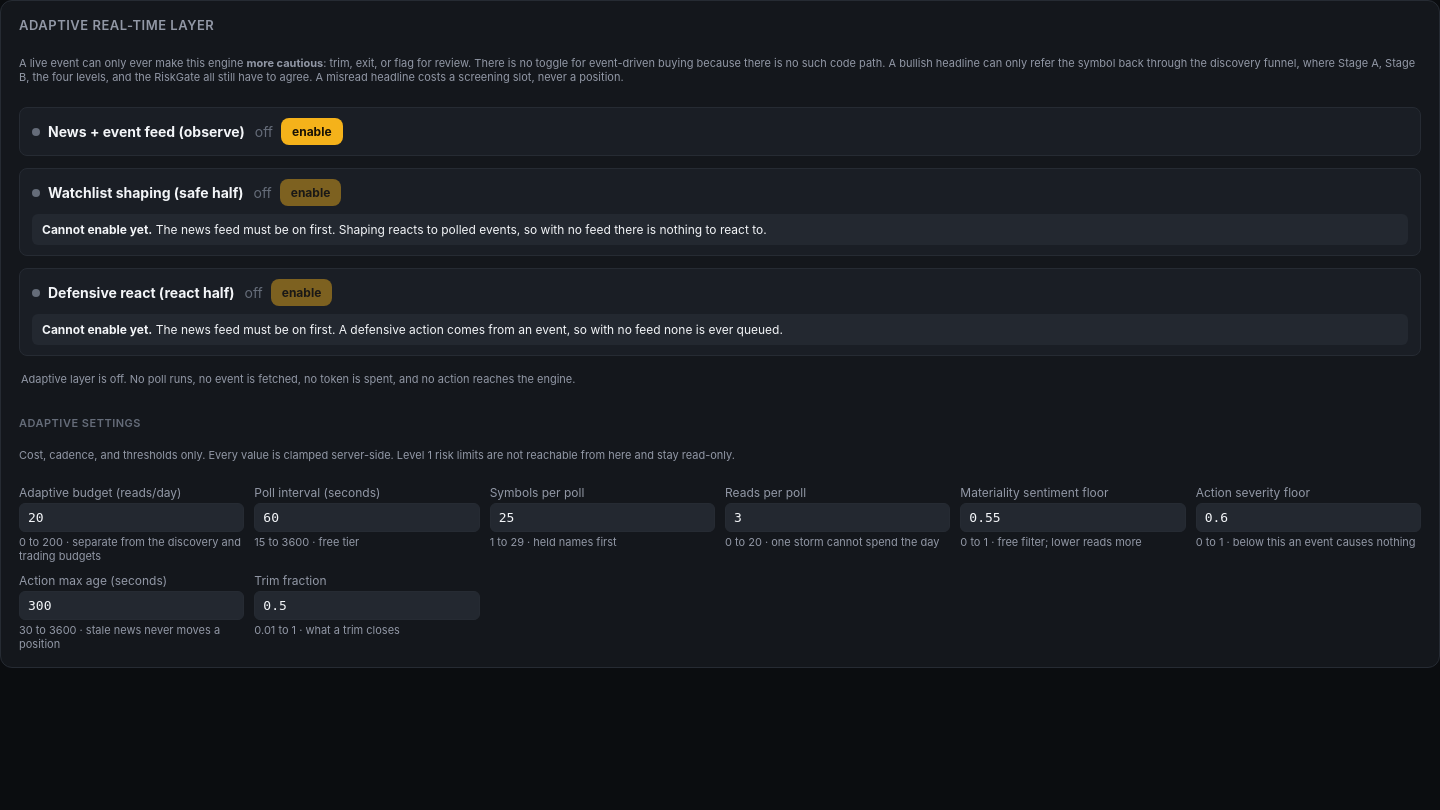
Test case: prerequisites and ordering › surfaces a server refusal
What coordinates should you click on to do the following:
click the button "enable" in the row of "News + event feed (observe)"
I would click on:
 (312, 132)
Its box is top-left (281, 118), bottom-right (343, 145).
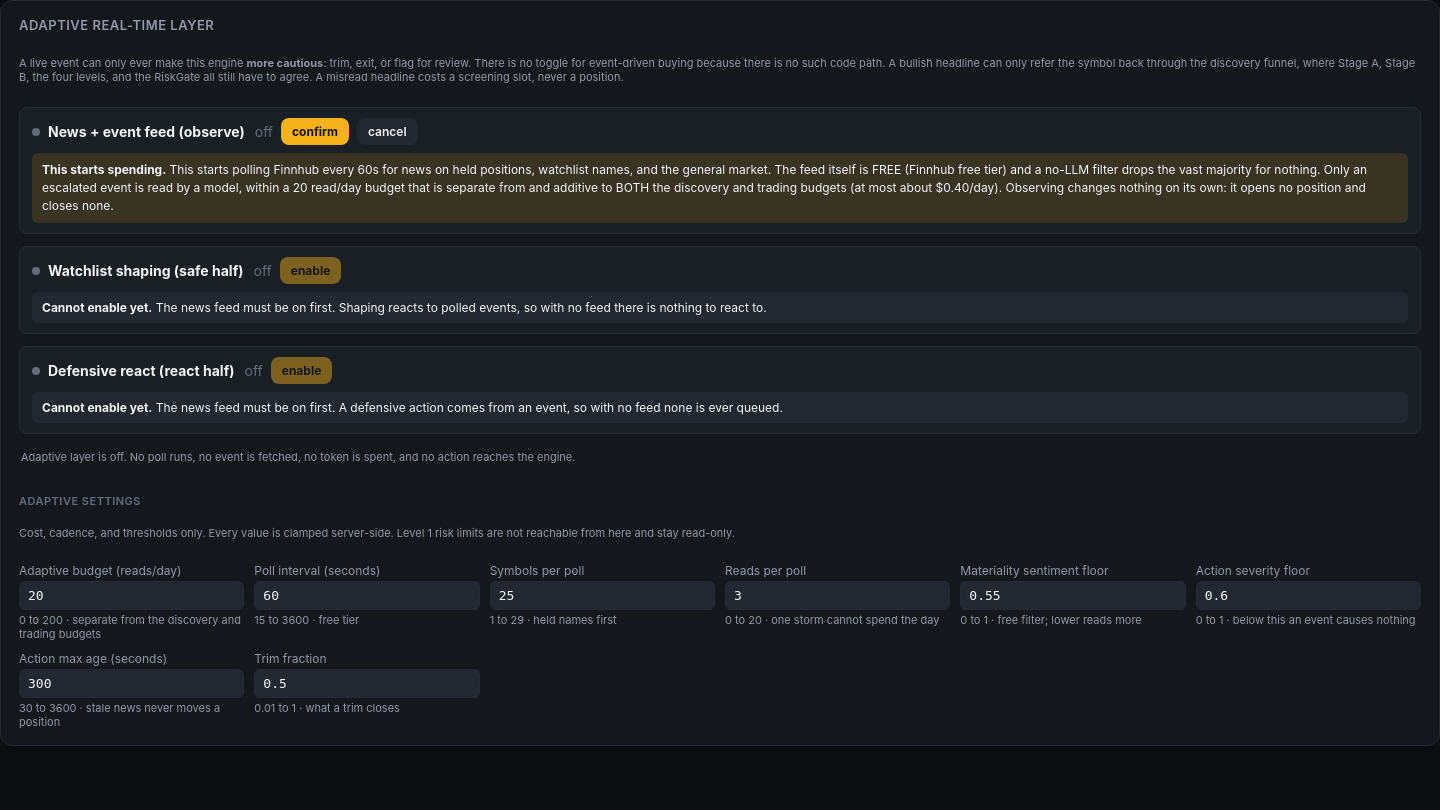
What coordinates should you click on to do the following:
click the button "confirm"
I would click on:
 (315, 132)
Its box is top-left (281, 118), bottom-right (349, 145).
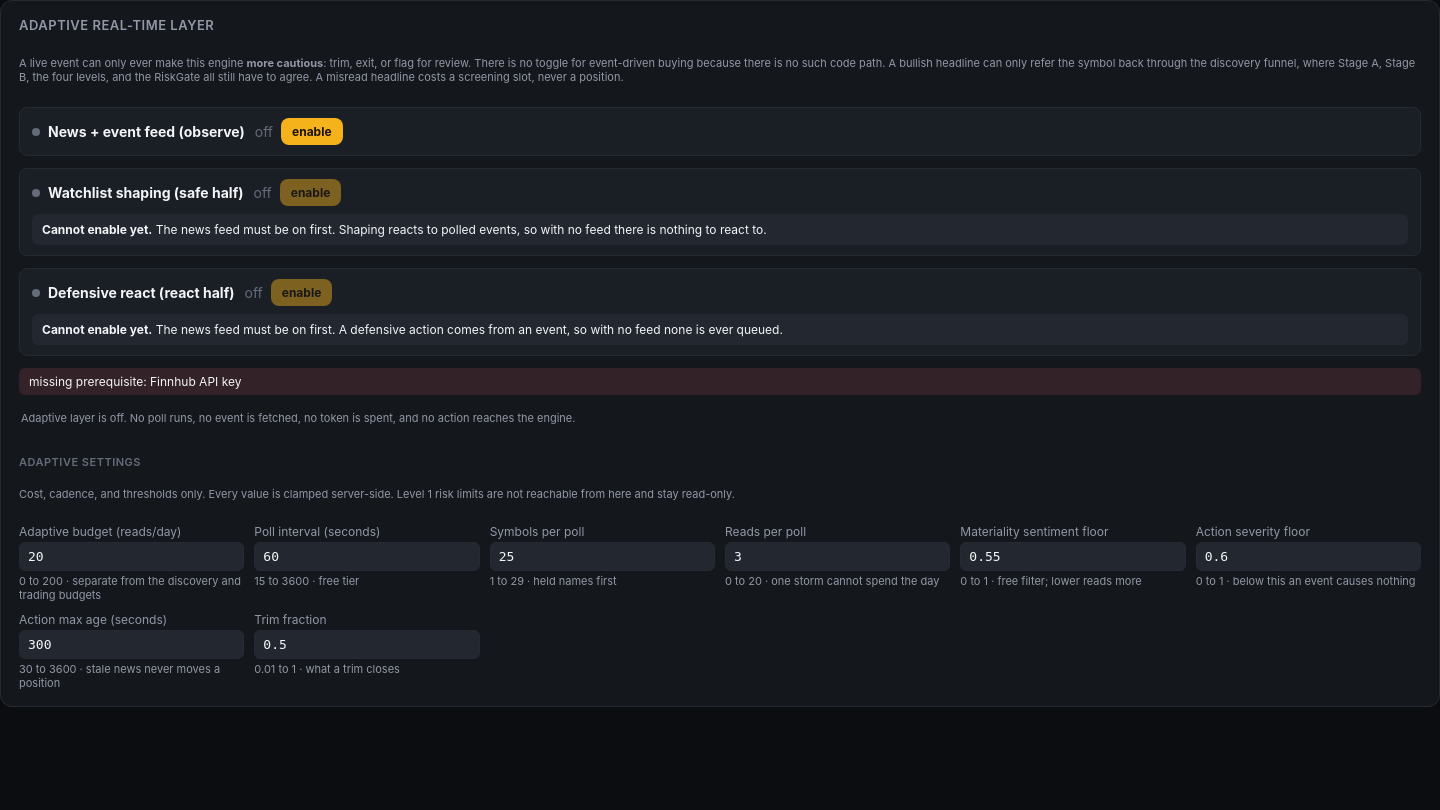
Result: the text with test id "adaptive-msg" reads "missing prerequisite: Finnhub API key" at top-left (29, 374), bottom-right (242, 389)
